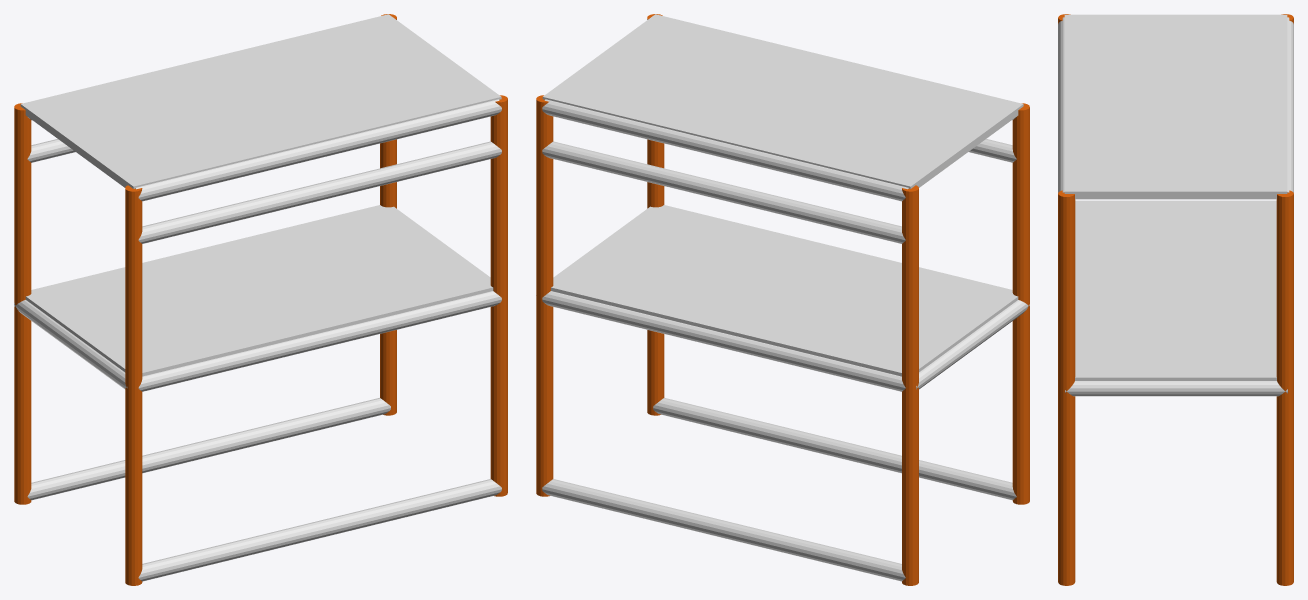
Rendered from constructBarrier_wallThing.fbx.
The picture shows the model from 3 angles, left to right: view 1: azimuth 30°, elevation 25°; view 2: azimuth 150°, elevation 25°; view 3: azimuth 270°, elevation 25°; orthographic projection.
Visible parts, largest first — view 1: Cube.020, Cylinder.004, Cylinder.006, Cylinder.007, Cylinder.008, Cylinder.005, Cylinder.009; view 2: Cube.020, Cylinder.004, Cylinder.006, Cylinder.007, Cylinder.008, Cylinder.005, Cylinder.009; view 3: Cube.020, Cylinder.004, Cylinder.009, Cylinder.008.
Part boxes in pixels (<box>): Cube.020: <box>20,14,501,376</box>; Cylinder.004: <box>14,14,507,585</box>; Cylinder.006: <box>27,398,501,581</box>; Cylinder.007: <box>27,139,501,243</box>; Cylinder.008: <box>28,99,501,201</box>; Cylinder.005: <box>138,291,501,391</box>; Cylinder.009: <box>14,300,127,389</box>; Cube.020: <box>542,14,1023,376</box>; Cylinder.004: <box>536,14,1029,585</box>; Cylinder.006: <box>542,398,1016,581</box>; Cylinder.007: <box>542,139,1016,243</box>; Cylinder.008: <box>542,99,1015,201</box>; Cylinder.005: <box>542,291,905,391</box>; Cylinder.009: <box>916,300,1029,389</box>; Cube.020: <box>1064,14,1287,380</box>; Cylinder.004: <box>1058,14,1293,585</box>; Cylinder.009: <box>1065,381,1287,396</box>; Cylinder.008: <box>1058,17,1293,192</box>.
Size of the model in its own units: 207 by 206 by 112.
